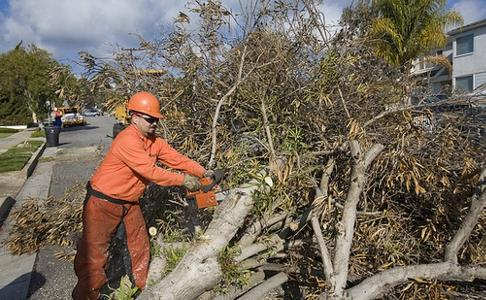person: (73, 92, 219, 300)
